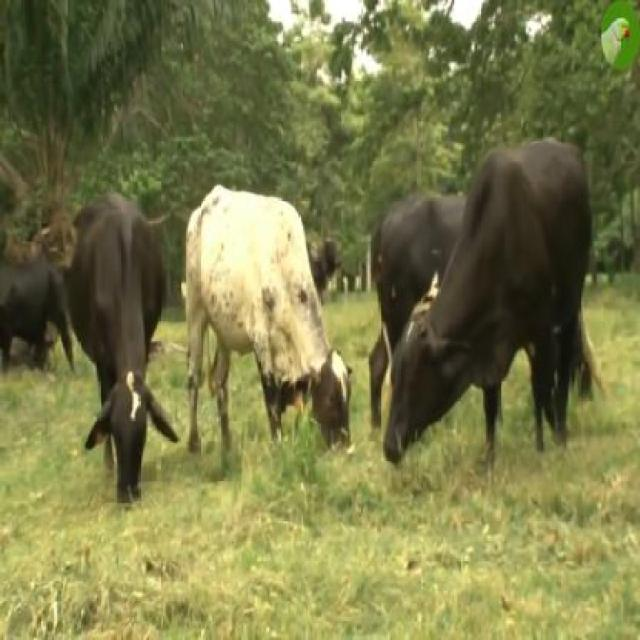Cow: (382, 137, 592, 468), (182, 186, 350, 457), (68, 192, 178, 503)
